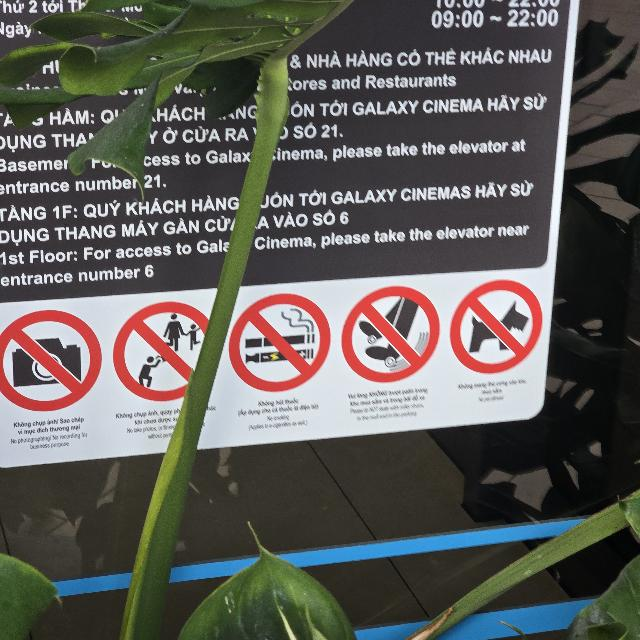cam hut thuoc: (230, 294, 330, 391)
